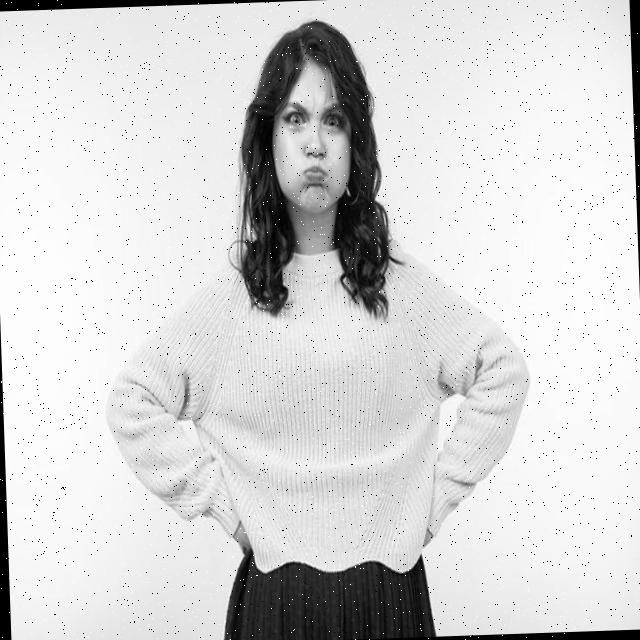Angry: (268, 66, 350, 212)
